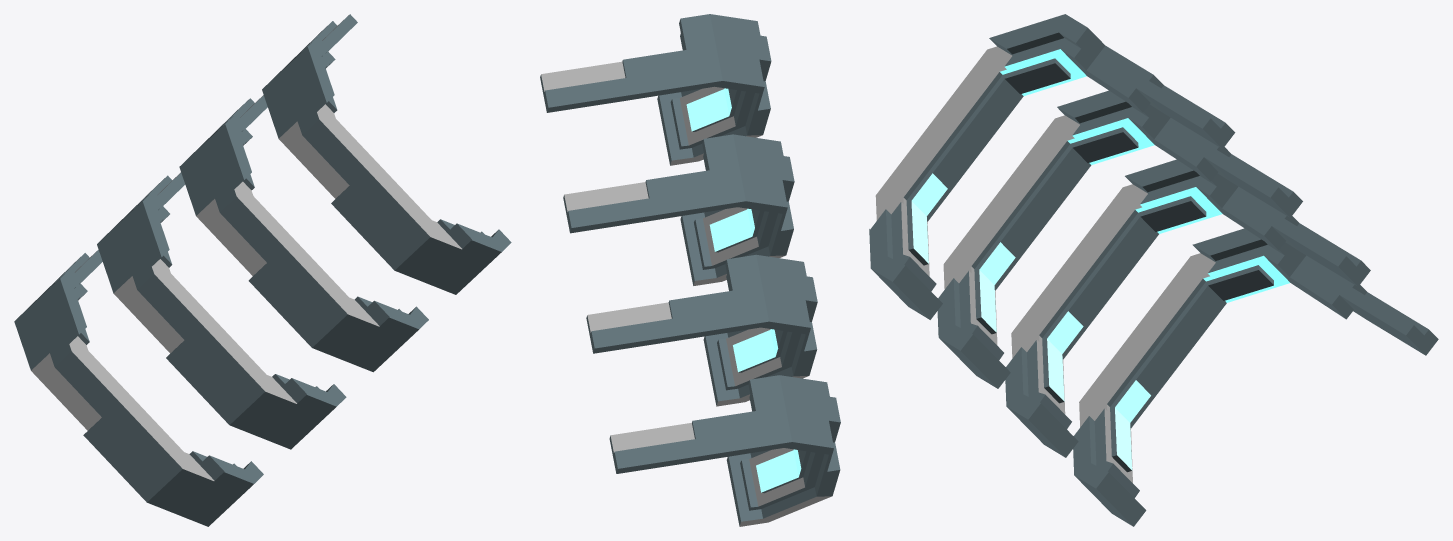
Rendered from QuadStack.fbx.
3 views of the same model, side by side, from view 1: azimuth 30°, elevation 25°; view 2: azimuth 150°, elevation 25°; view 3: azimuth 270°, elevation 25° (orthographic). The views are drawn at different scales.
Visible parts, largest first — view 1: Broken archway.001; view 2: Broken archway.001; view 3: Broken archway.001.
Part boxes in pixels (x1,y1,x2,y2): Broken archway.001: (14,14,511,526); Broken archway.001: (540,14,840,526); Broken archway.001: (869,14,1438,526).
Size of the model in its own units: 454 by 630 by 596.
